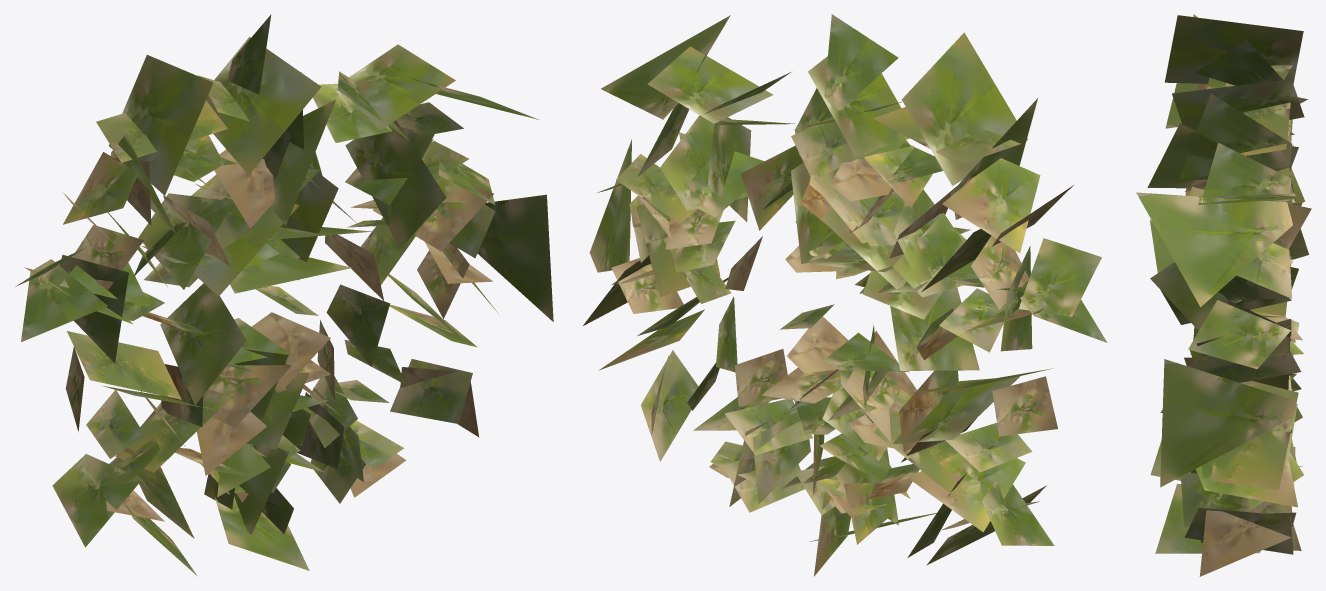
File: Grass_01_Var3_LOD2.fbx
3 renders of one model, left to right at view 1: azimuth 30°, elevation 25°; view 2: azimuth 150°, elevation 25°; view 3: azimuth 270°, elevation 25°, orthographic. The views are drawn at different scales.
Visible parts, largest first — view 1: Var3_LOD2; view 2: Var3_LOD2; view 3: Var3_LOD2.
Boxes of the visible parts, box(x1,y1,x2,y2) form: Var3_LOD2: box(15, 14, 553, 576); Var3_LOD2: box(583, 14, 1107, 576); Var3_LOD2: box(1136, 14, 1311, 576).
Bounding box in the file's own units: 86.51 × 85.43 × 26.3.
